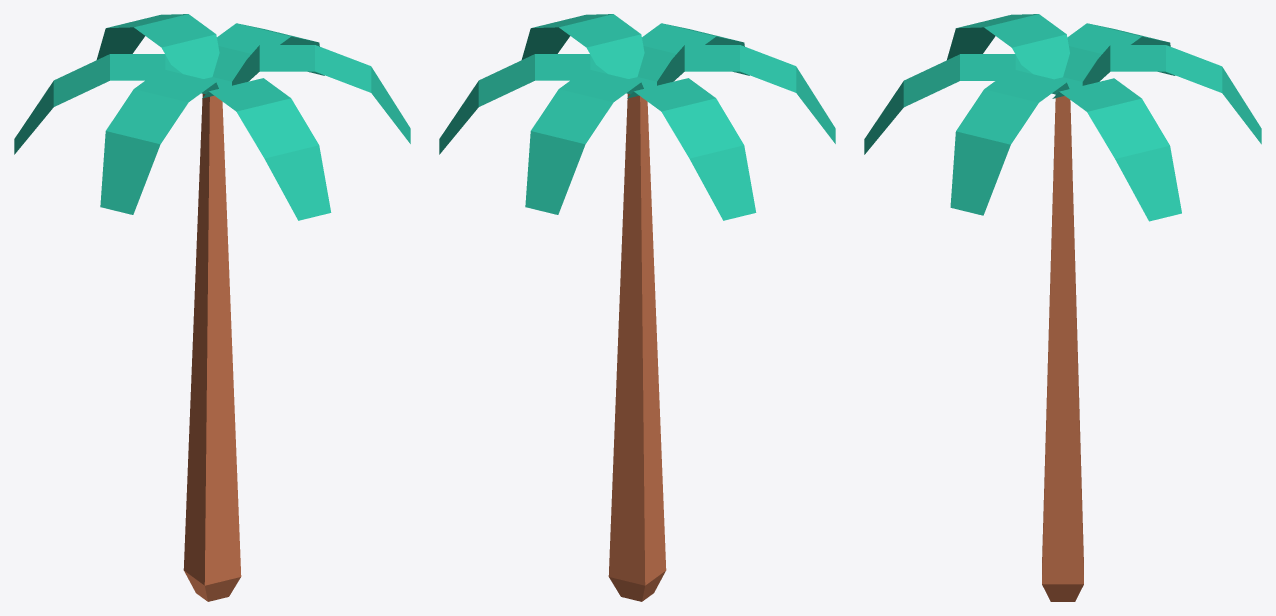
File: k-tree-palm.glb
The picture shows the model from 3 angles, left to right: view 1: azimuth 30°, elevation 25°; view 2: azimuth 150°, elevation 25°; view 3: azimuth 270°, elevation 25°; orthographic projection.
Visible parts, largest first — view 1: tree_palm; view 2: tree_palm; view 3: tree_palm.
Boxes of the visible parts, x1,y1,x2,y2 form: tree_palm: (14,14,410,601); tree_palm: (439,14,835,601); tree_palm: (864,14,1261,601).
Size of the model in its own units: 0.9355 by 1.51 by 1.01.
